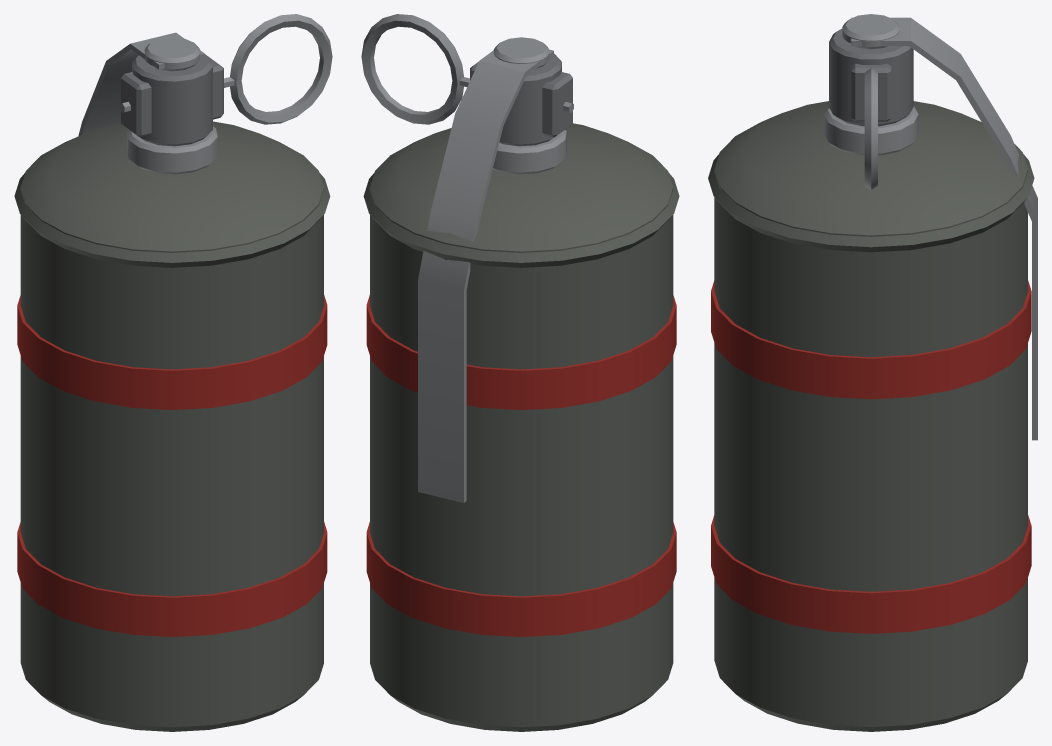
File: prop_throwable_incendiary.glb
3 views of the same model, side by side, from view 1: azimuth 30°, elevation 25°; view 2: azimuth 150°, elevation 25°; view 3: azimuth 270°, elevation 25° (orthographic). The views are drawn at different scales.
Visible parts, largest first — view 1: Body, Pin; view 2: Body, Pin; view 3: Body, Pin.
Boxes of the visible parts, box(x1,y1,x2,y2) form: Body: box(14, 32, 330, 731); Pin: box(120, 14, 332, 124); Body: box(363, 37, 679, 731); Pin: box(361, 14, 573, 124); Body: box(708, 14, 1037, 731); Pin: box(864, 68, 877, 190).
Size of the model in its own units: 0.0712 by 0.1444 by 0.0663.
